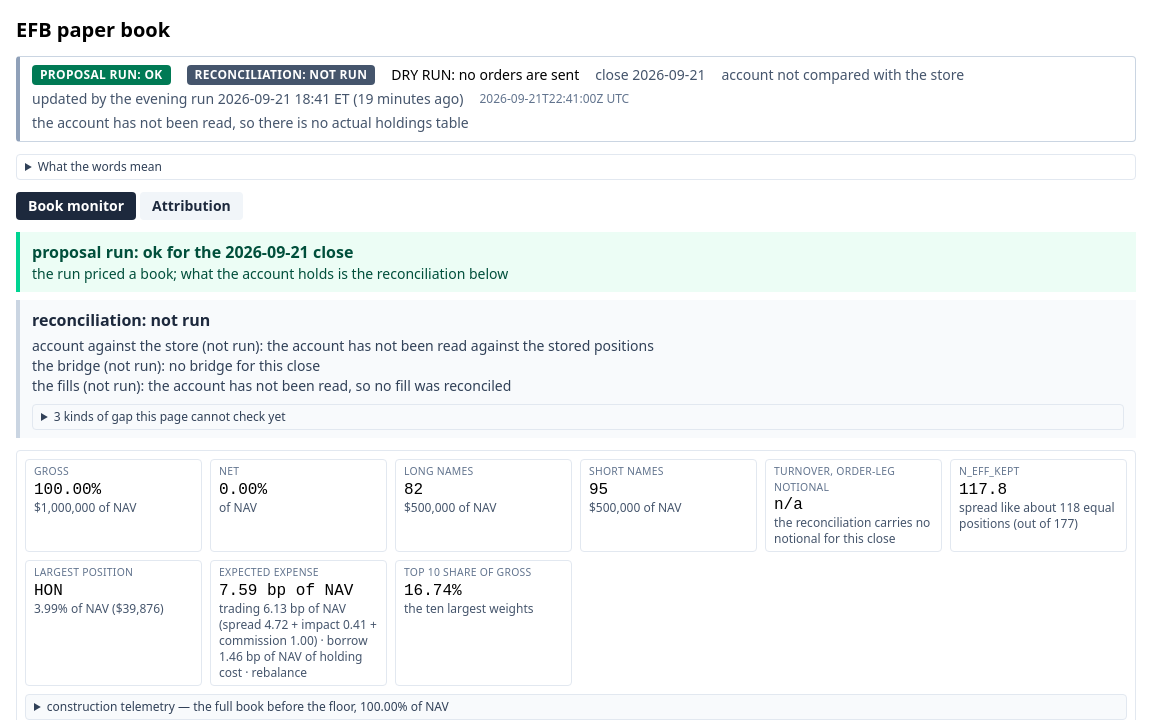
Test: the page › says why the live attribution is empty instead of showing an empty table
This screenshot has width=1152, height=720.
Click the tab "Attribution" at (191, 206), box [140,192,243,220]
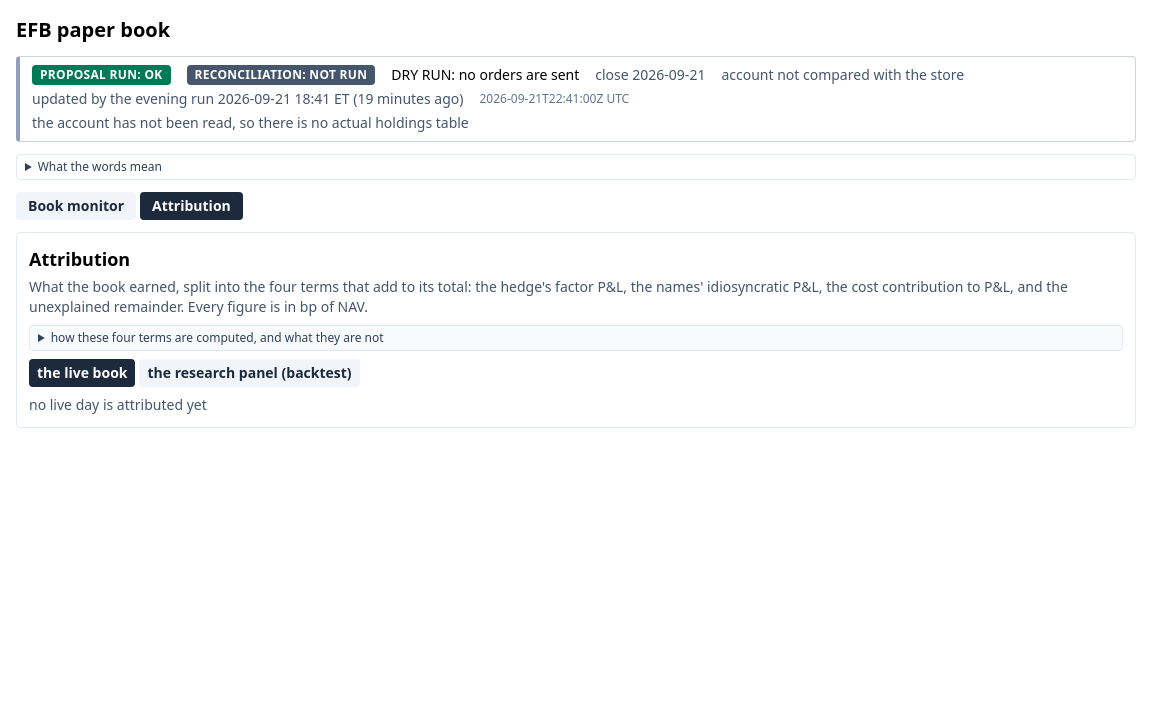
Expected: the text "no live day is attributed yet" is shown, [29,395,207,414]
